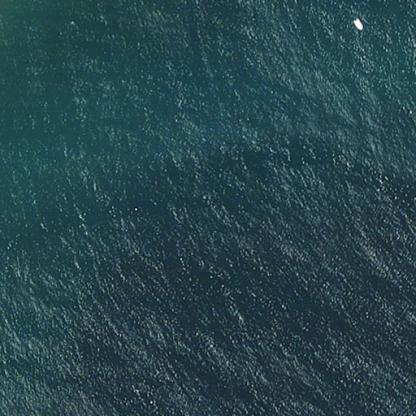ship: (346, 11, 369, 35)
